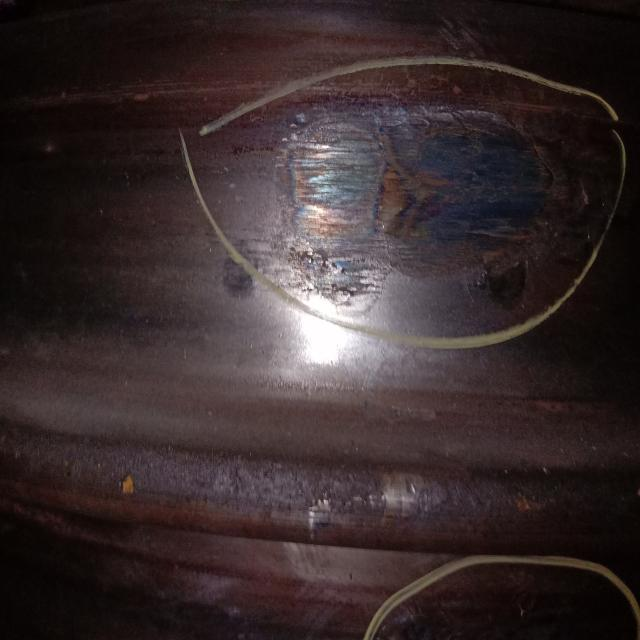Blue hole: (477, 250, 537, 321)
Peeling: (286, 246, 381, 303)
Rollerpile: (381, 144, 457, 253)
